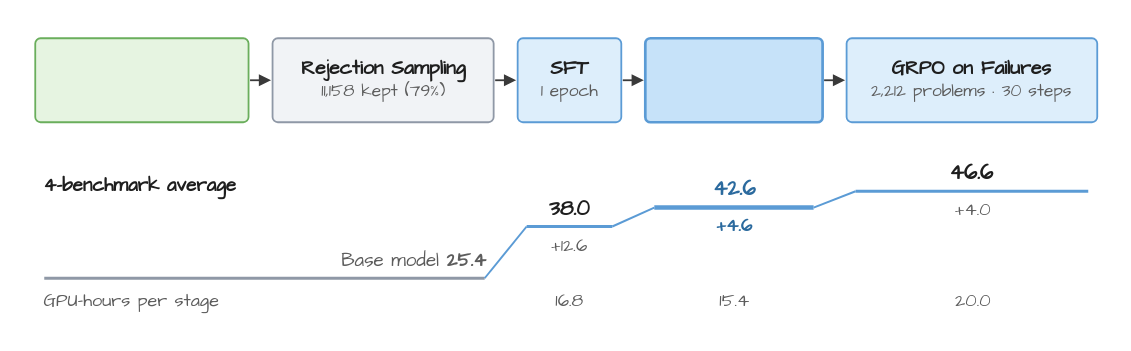
The diagram is 1131 pixels wide and 351 high, and some of its shapes have lost their labels. Here are the shapes that lost their labels. From the top down, the box of each, then its label:
(34, 37, 249, 122): Teacher Solutions 14,116 problems
(643, 36, 823, 123): Scaffold-OPD 40 steps
